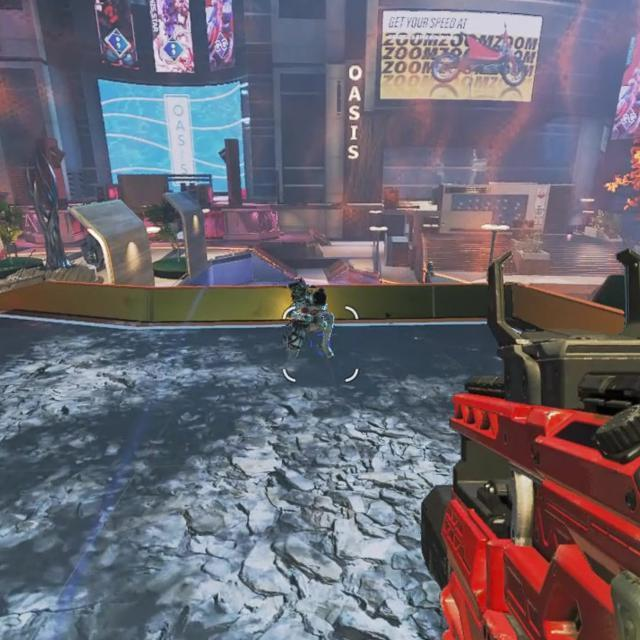avatar: (282, 286, 335, 364)
